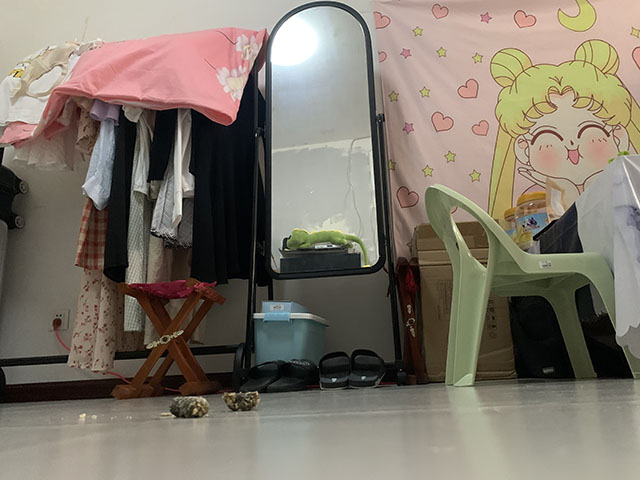feces: (168, 395, 211, 419), (221, 390, 260, 413)
slippers: (240, 348, 387, 394)
stool: (423, 183, 640, 389), (109, 277, 228, 401)
wire: (50, 317, 236, 395)
